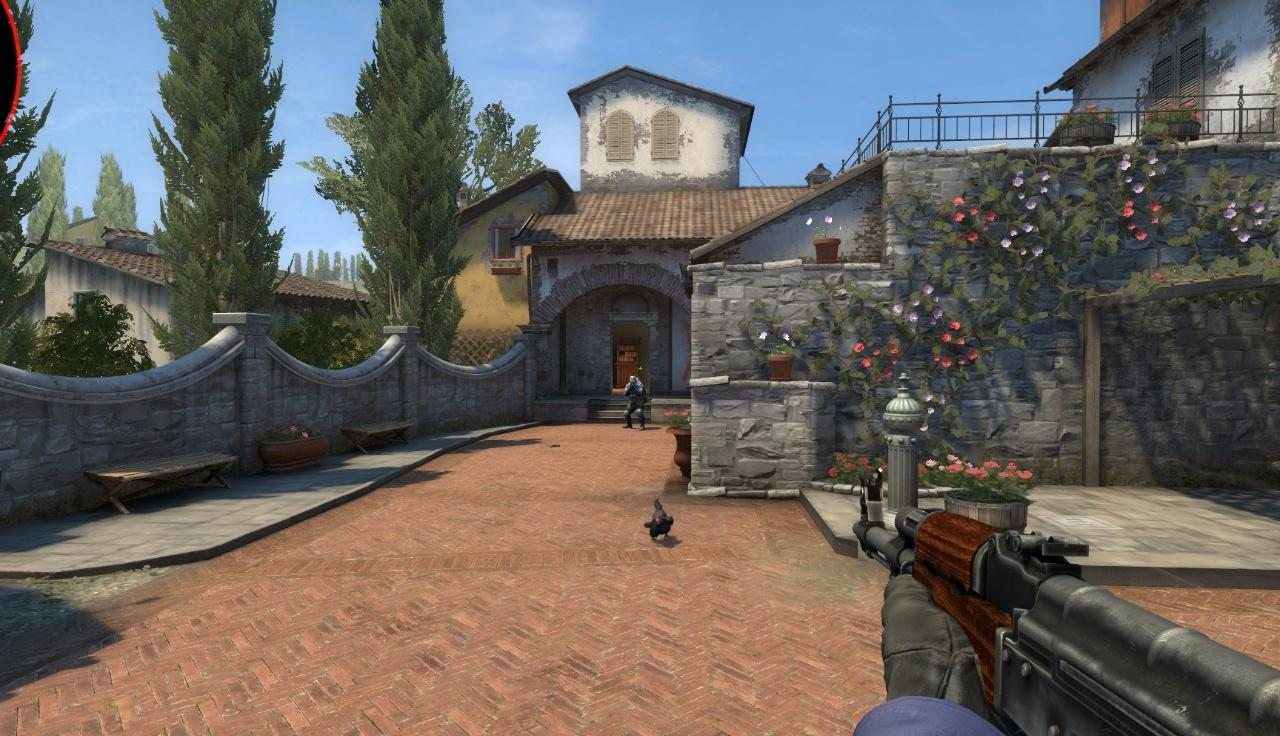ct: (622, 375, 648, 430)
cthead: (629, 376, 637, 386)
rifle: (853, 466, 1280, 734)
